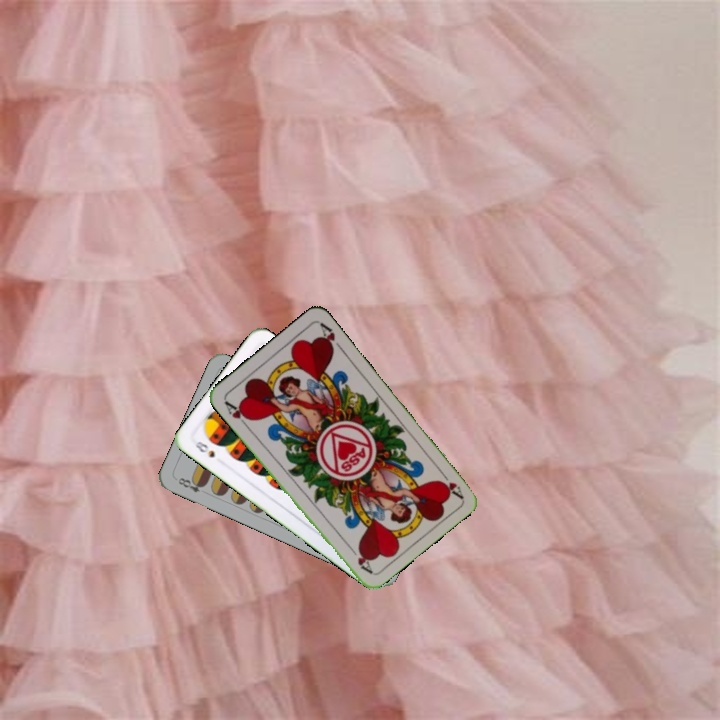E8: (174, 473, 208, 495)
HA: (220, 397, 253, 431), (434, 465, 465, 500)
S8: (191, 437, 217, 460)
